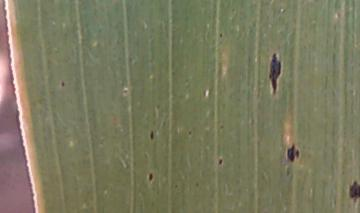tarspot: (267, 52, 282, 96), (347, 179, 360, 204), (285, 143, 301, 163), (148, 129, 155, 142), (280, 7, 289, 16), (217, 124, 226, 130), (217, 158, 224, 165), (60, 80, 66, 88), (148, 172, 153, 181), (218, 31, 223, 40), (121, 89, 128, 95), (187, 129, 193, 136), (194, 181, 200, 188), (155, 103, 161, 109), (173, 183, 178, 190)
